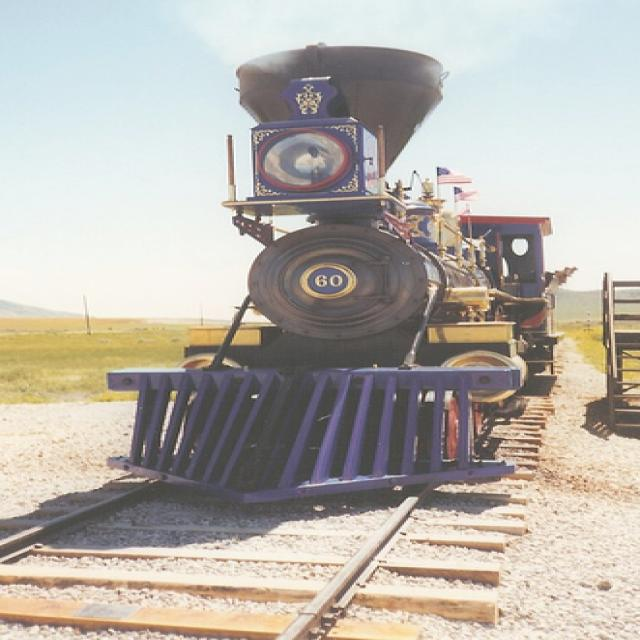train: (90, 15, 581, 519)
